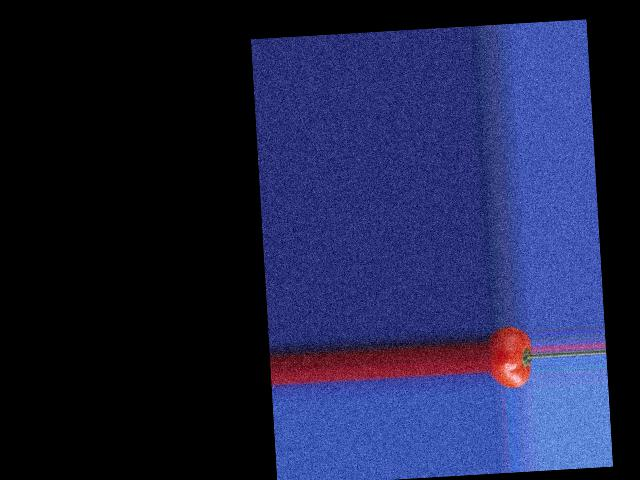tomato: (485, 324, 534, 388)
